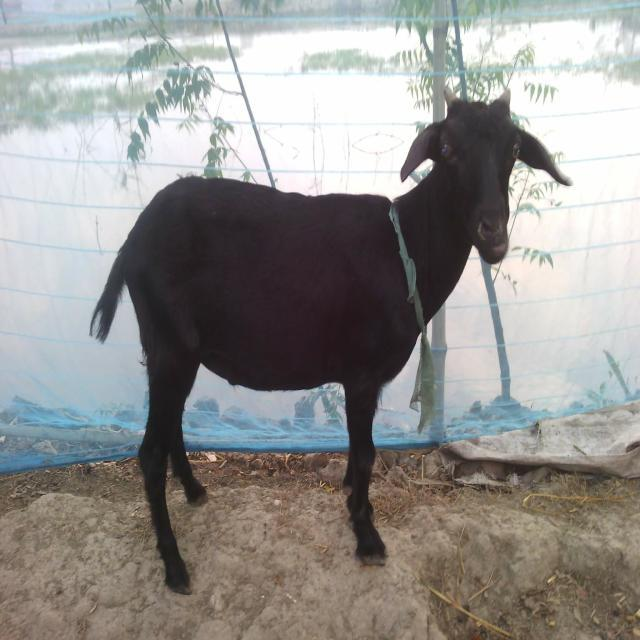Goat: (88, 84, 573, 595)
